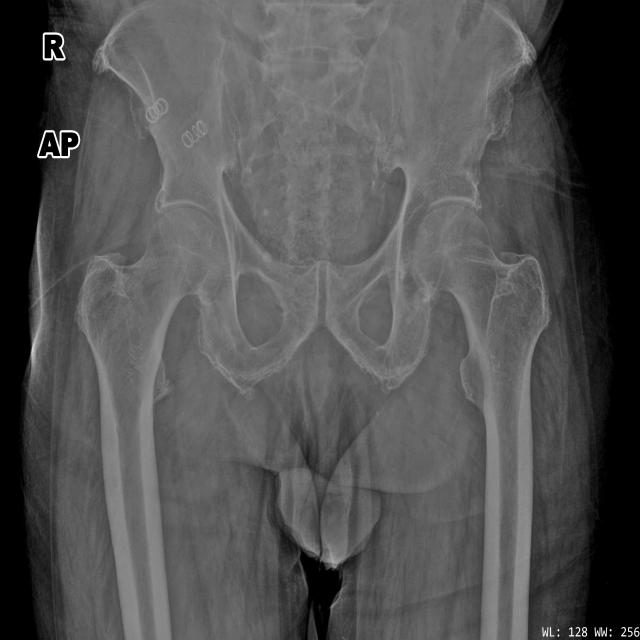normal-left: (413, 205, 553, 484)
normal-right: (74, 208, 223, 489)
